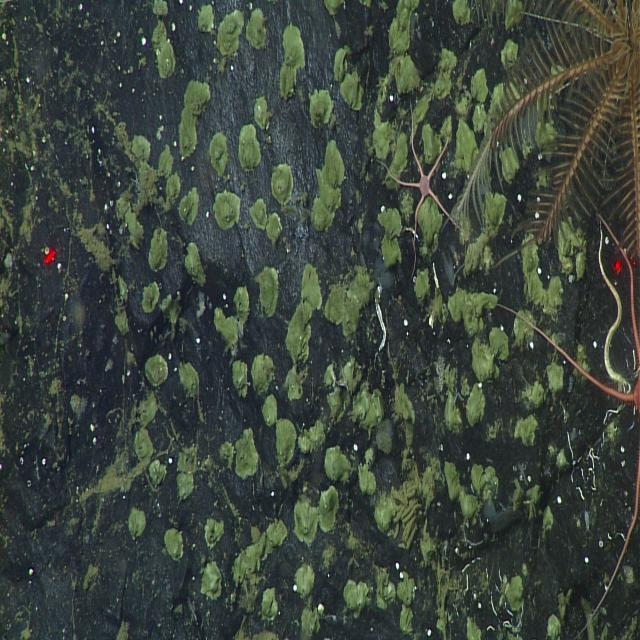Brittle Star: (385, 98, 462, 243)
Not Brittle Star: (147, 224, 169, 274), (506, 573, 525, 609)
